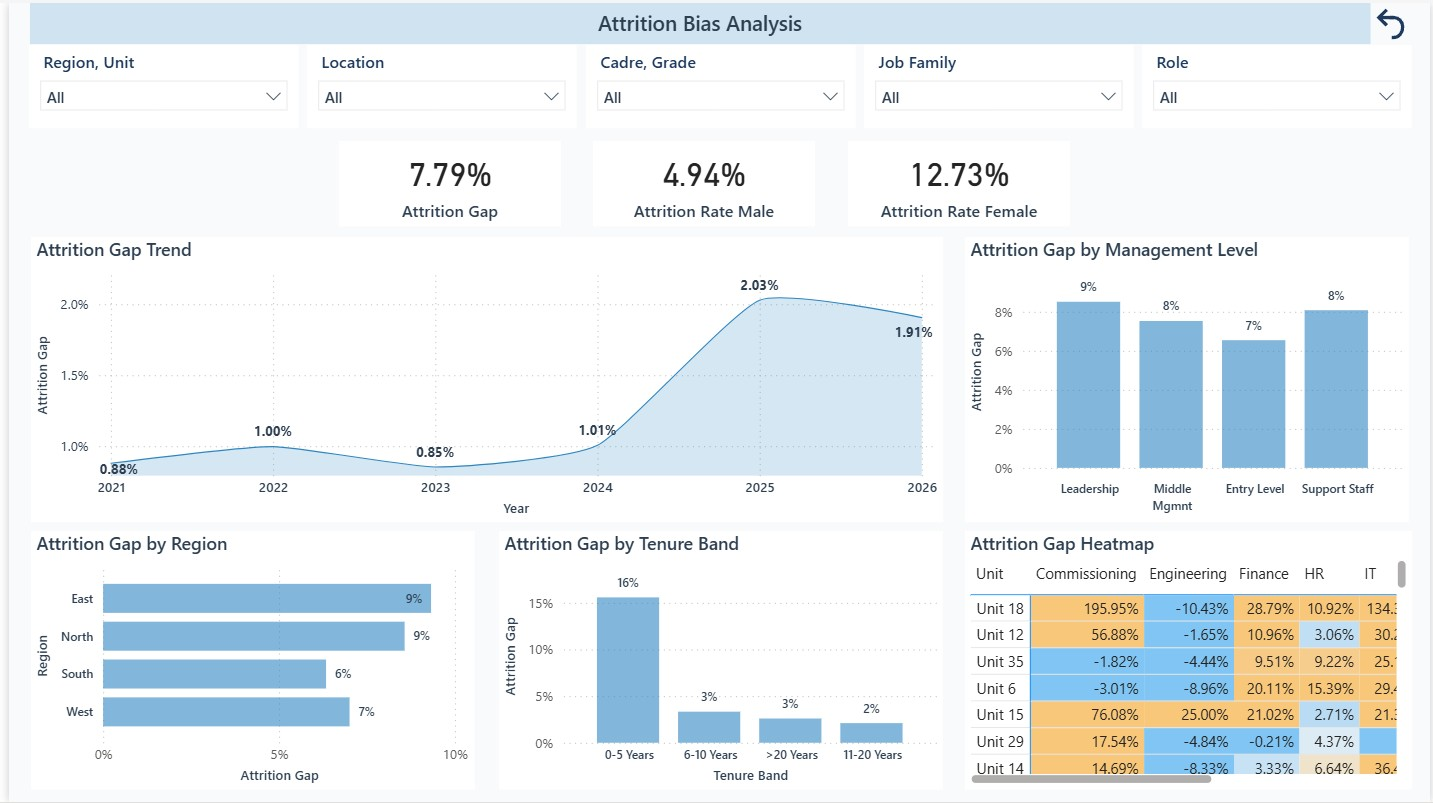

What the dashboard file says about the page in this screenshot:
{"tool":"powerbi","page":{"name":"Attrition Bias Analysis","canvas":[1280,720],"ordinal":4},"visuals":[{"type":"textbox","box":[18.7,0,1207.6,37.5],"z":0},{"type":"slicer","fields":{"Values":["DIM_Unit_Master.Region","DIM_Unit_Master.Unit"]},"box":[18.2,37.6,243,74.9],"z":0,"group":"g1"},{"type":"slicer","fields":{"Values":["DIM_Location_Master.Location"]},"box":[269,37.6,243,74.9],"z":1000,"group":"g1"},{"type":"card","fields":{"Values":["DIM_DATE_TABLE.Attrition Gender Gap"]},"box":[297.1,124.4,200,77.3],"z":1000},{"type":"group","id":"g1","title":"Group 1","box":[18.2,37.6,1244.6,75],"z":2000},{"type":"slicer","fields":{"Values":["DIM_Grade_Master.Cadre","DIM_Grade_Master.Grade"]},"box":[519.8,37.6,243,74.9],"z":2000,"group":"g1"},{"type":"slicer","fields":{"Values":["DIM_Job_Master.JOB_FAMILY"]},"box":[770.6,37.6,243,74.9],"z":3000,"group":"g1"},{"type":"card","fields":{"Values":["DIM_DATE_TABLE.Attrition Rate Female"]},"box":[756,124,200,77.3],"z":3000},{"type":"actionButton","box":[1226.3,0,37.5,37.5],"z":4000},{"type":"slicer","fields":{"Values":["DIM_Role_Master.ROLE_NAME"]},"box":[1021.4,37.6,243,74.9],"z":4000,"group":"g1"},{"type":"card","fields":{"Values":["DIM_DATE_TABLE.Attrition Rate Male"]},"box":[526.5,124,200,77.3],"z":5000},{"type":"pivotTable","title":"Attrition Gap Heatmap","fields":{"Rows":["DIM_Unit_Master.Unit"],"Values":["DIM_DATE_TABLE.Attrition Gap"],"Columns":["DIM_Job_Master.Job Family"]},"box":[861.7,476.2,403.1,233.1],"z":5001},{"type":"areaChart","title":"Attrition Gap Trend","fields":{"Category":["DIM_DATE_TABLE.Date Hierarchy.Year"],"Y":["DIM_DATE_TABLE.Attrition Gap"]},"box":[20,210.7,821.7,257.1],"z":6000},{"type":"clusteredColumnChart","title":"Attrition Gap by Management Level","fields":{"Category":["DIM_Grade_Master.Level"],"Y":["DIM_DATE_TABLE.Attrition Gap"]},"box":[861.8,210.7,400.3,257.1],"z":8000},{"type":"clusteredBarChart","title":"Attrition Gap by Region","fields":{"Category":["PR_DIV_FACT_EMPLOYEE_MASTER.Region"],"Y":["DIM_DATE_TABLE.Attrition Gap"]},"box":[20,476.2,400.3,232.8],"z":9000},{"type":"clusteredColumnChart","title":"Attrition Gap by Tenure Band","fields":{"Category":["PR_DIV_FACT_EMPLOYEE_MASTER.Tenure Band"],"Y":["DIM_DATE_TABLE.Attrition Gap"]},"box":[441.4,476.2,400.3,232.8],"z":10000}]}

Visuals, with their boxes in screenshot pixels (x1, y1, x2, y2), scaled from the page's 1280x720 canvas onto the 1433x803 screenshot:
textbox: Rect(21, 0, 1373, 42)
slicer - DIM_Unit_Master.Region x DIM_Unit_Master.Unit: Rect(20, 42, 292, 125)
slicer - DIM_Location_Master.Location: Rect(301, 42, 573, 125)
card - DIM_DATE_TABLE.Attrition Gender Gap: Rect(333, 139, 557, 225)
"Group 1" group: Rect(20, 42, 1414, 126)
slicer - DIM_Grade_Master.Cadre x DIM_Grade_Master.Grade: Rect(582, 42, 854, 125)
slicer - DIM_Job_Master.JOB_FAMILY: Rect(863, 42, 1135, 125)
card - DIM_DATE_TABLE.Attrition Rate Female: Rect(846, 138, 1070, 225)
actionButton: Rect(1373, 0, 1415, 42)
slicer - DIM_Role_Master.ROLE_NAME: Rect(1143, 42, 1416, 125)
card - DIM_DATE_TABLE.Attrition Rate Male: Rect(589, 138, 813, 225)
"Attrition Gap Heatmap" pivotTable: Rect(965, 531, 1416, 791)
"Attrition Gap Trend" areaChart: Rect(22, 235, 942, 522)
"Attrition Gap by Management Level" clusteredColumnChart: Rect(965, 235, 1413, 522)
"Attrition Gap by Region" clusteredBarChart: Rect(22, 531, 471, 791)
"Attrition Gap by Tenure Band" clusteredColumnChart: Rect(494, 531, 942, 791)
